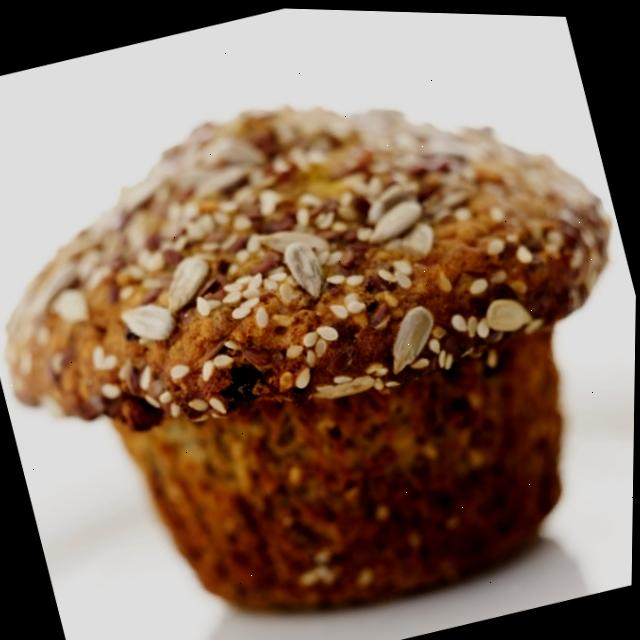炸货点心: (0, 12, 640, 640)
面包点心: (0, 12, 640, 640)
